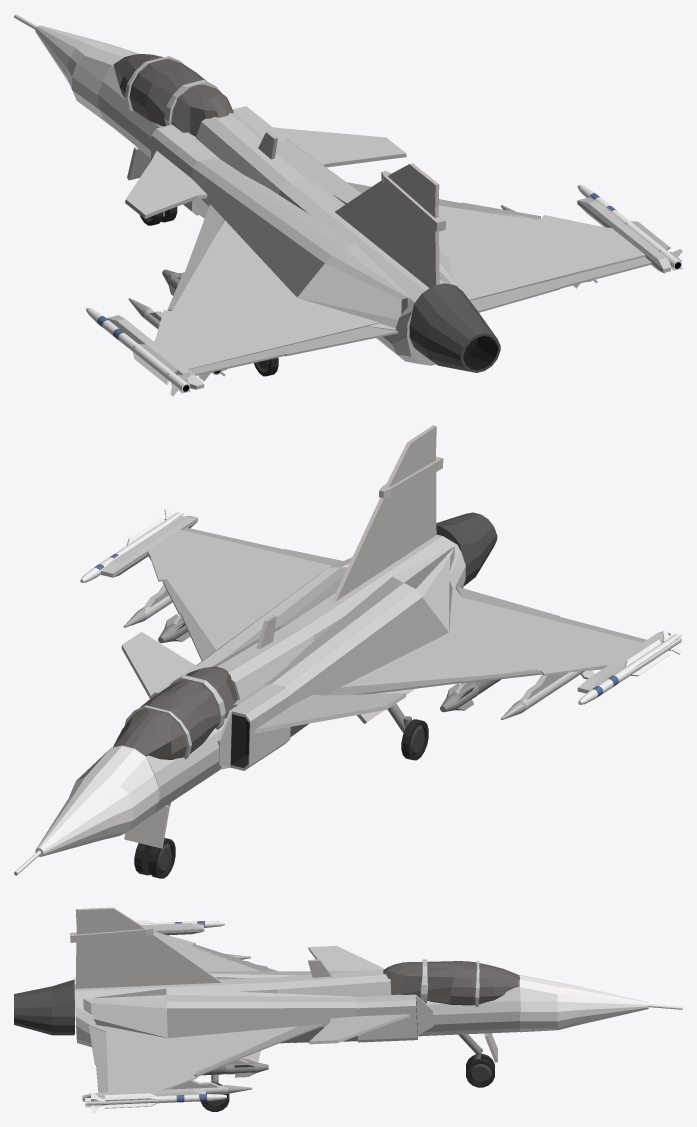
The picture shows the model from 3 angles, top to bottom: view 1: azimuth 30°, elevation 25°; view 2: azimuth 150°, elevation 25°; view 3: azimuth 270°, elevation 25°; orthographic projection. The views are drawn at different scales.
Visible parts, largest first — view 1: cuboid (×15), cylinder (×6), sphere; view 2: cuboid (×13), cylinder (×10), sphere; view 3: cuboid (×12), cylinder (×9), sphere.
Part boxes in pixels (x1=…): cuboid (×15): x1=106, y1=106, x2=670, y2=389; cylinder (×6): x1=35, y1=25, x2=682, y2=396; sphere: x1=113, y1=54, x2=233, y2=136; cuboid (×13): x1=101, y1=425, x2=670, y2=848; cylinder (×10): x1=35, y1=508, x2=682, y2=878; sphere: x1=113, y1=666, x2=237, y2=759; cuboid (×12): x1=70, y1=907, x2=433, y2=1101; cylinder (×9): x1=14, y1=920, x2=648, y2=1112; sphere: x1=383, y1=961, x2=519, y2=1005.
Bounding box in the file's own units: 3.53 × 1.6 × 5.51.
Materials: 5 (5 with a texture image).
